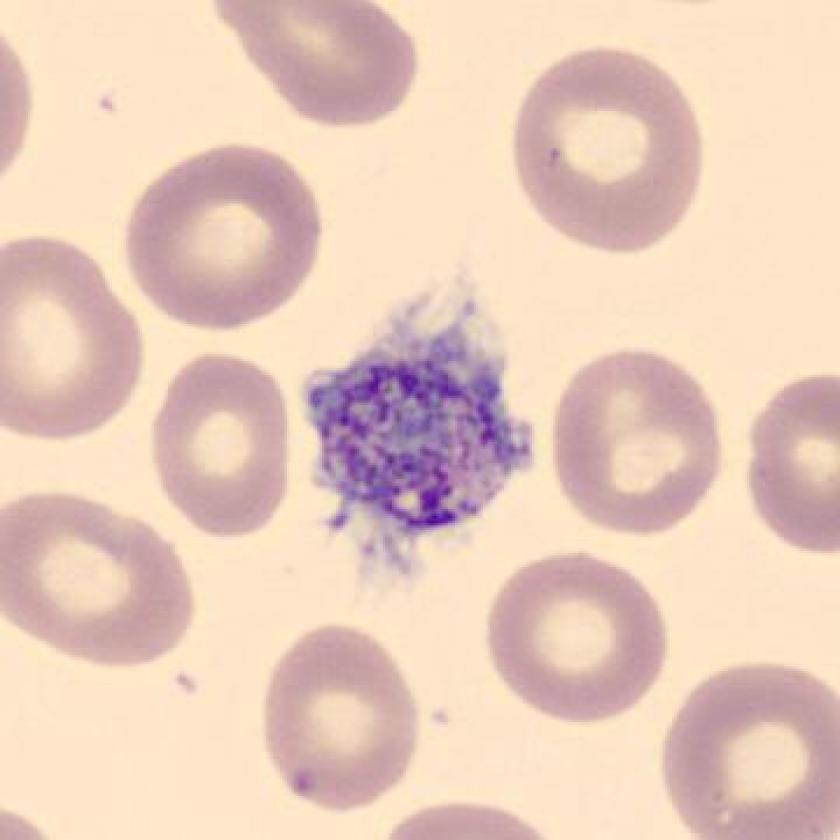platelets: (300, 304, 547, 577)
